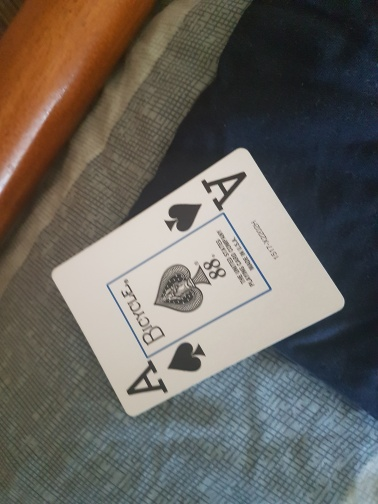ace: (51, 148, 345, 417)
